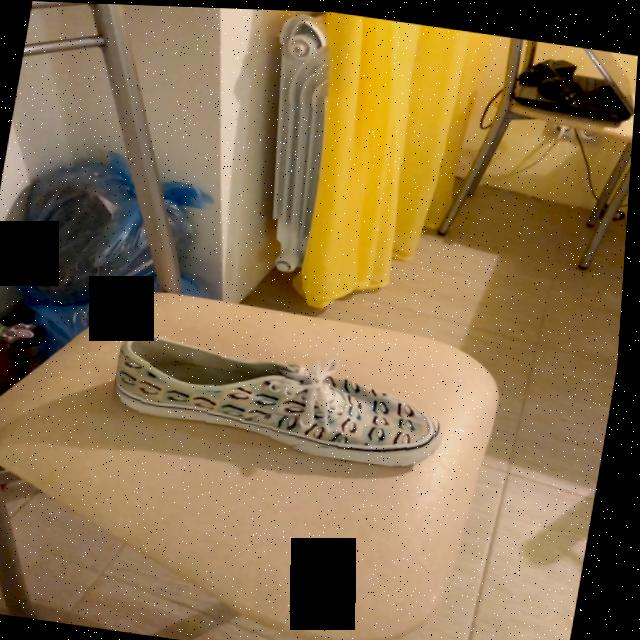shoe: (122, 336, 442, 460)
